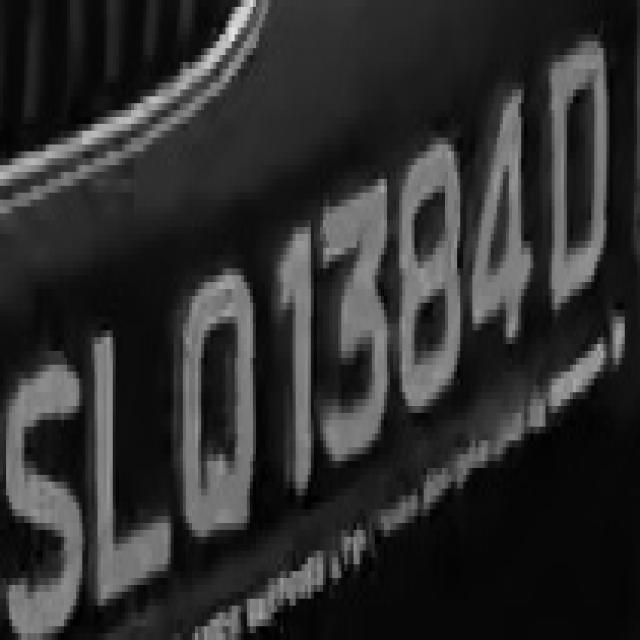1: (280, 186, 323, 544)
3: (311, 158, 399, 489)
4: (457, 76, 540, 358)
8: (393, 124, 476, 427)
D: (540, 27, 616, 330)
L: (85, 316, 176, 640)
Q: (165, 234, 265, 557)
S: (12, 324, 82, 633)
